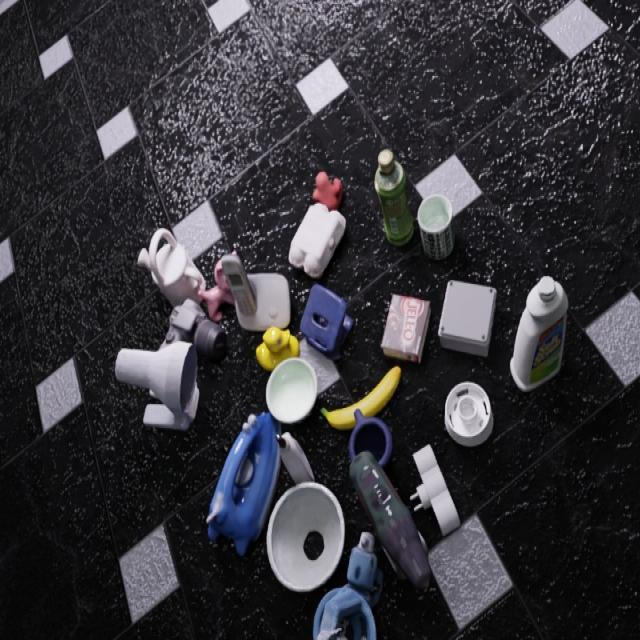Other Objects: (206, 412, 280, 555), (266, 481, 344, 591), (115, 341, 199, 429), (313, 532, 382, 639), (510, 276, 567, 391), (320, 365, 400, 429), (439, 280, 496, 355), (288, 204, 345, 277), (300, 284, 354, 359), (374, 149, 413, 245), (266, 357, 317, 423), (381, 295, 430, 361), (444, 381, 493, 447), (417, 195, 454, 260), (197, 260, 233, 321), (312, 171, 342, 209)
